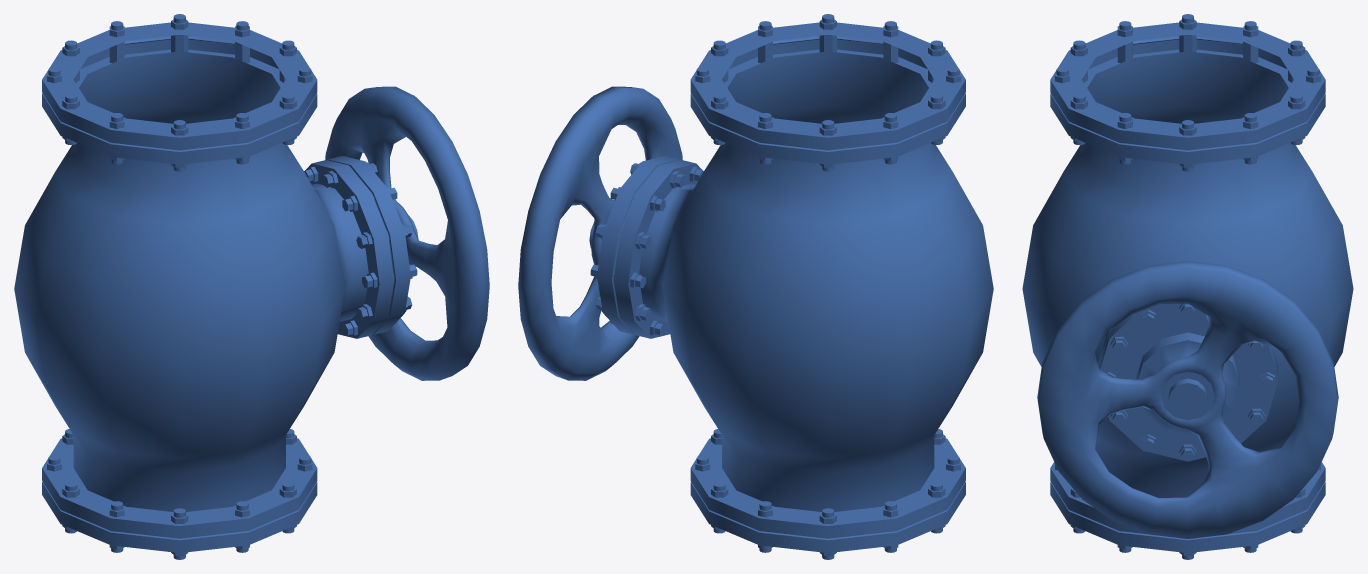
Rendered from SM_Pipe_Valve.fbx.
3 renders of one model, left to right at view 1: azimuth 30°, elevation 25°; view 2: azimuth 150°, elevation 25°; view 3: azimuth 270°, elevation 25°, orthographic.
Parts seen in each view (by area): view 1: SM_Pipe_Valve; view 2: SM_Pipe_Valve; view 3: SM_Pipe_Valve.
Part boxes in pixels (left/top/right/bottom): SM_Pipe_Valve: left=14, top=14, right=489, bottom=559; SM_Pipe_Valve: left=518, top=14, right=993, bottom=559; SM_Pipe_Valve: left=1022, top=14, right=1353, bottom=559.
Size of the model in its own units: 51.03 by 55.99 by 38.64.
